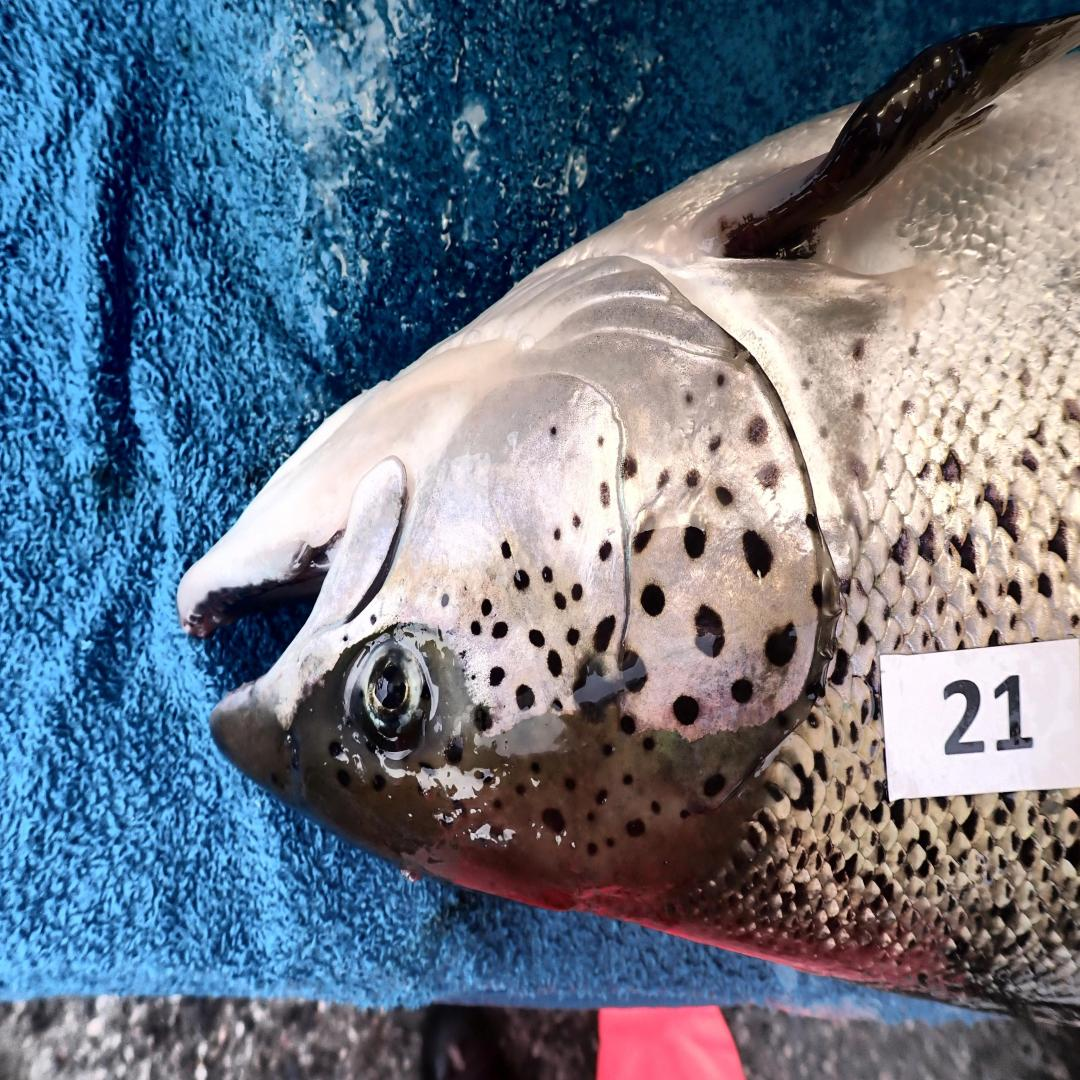spot: (570, 655, 612, 720), (694, 605, 724, 658), (742, 529, 772, 579), (766, 622, 797, 667), (620, 650, 648, 693), (633, 512, 658, 554), (673, 695, 700, 726), (593, 616, 616, 652), (683, 526, 707, 560), (641, 585, 664, 616), (757, 461, 780, 489), (747, 416, 768, 444), (730, 678, 753, 703), (475, 703, 491, 731), (517, 683, 534, 709), (548, 650, 561, 678), (715, 487, 732, 506), (624, 456, 637, 478), (599, 540, 612, 562), (489, 667, 504, 686), (656, 470, 671, 489), (515, 571, 529, 591), (599, 481, 610, 506), (491, 622, 508, 638), (529, 630, 544, 647), (812, 582, 822, 607), (709, 433, 721, 453), (686, 470, 700, 487), (567, 627, 580, 644), (805, 513, 818, 530), (572, 582, 582, 602), (542, 565, 553, 582), (555, 593, 565, 610), (481, 599, 491, 616), (551, 698, 563, 712), (502, 540, 510, 560), (470, 622, 481, 636), (441, 593, 449, 608), (572, 515, 580, 529), (685, 391, 693, 404), (717, 374, 726, 385), (548, 425, 557, 436), (369, 613, 378, 624), (553, 529, 561, 540), (597, 435, 604, 447), (459, 650, 466, 658), (471, 674, 475, 680)
